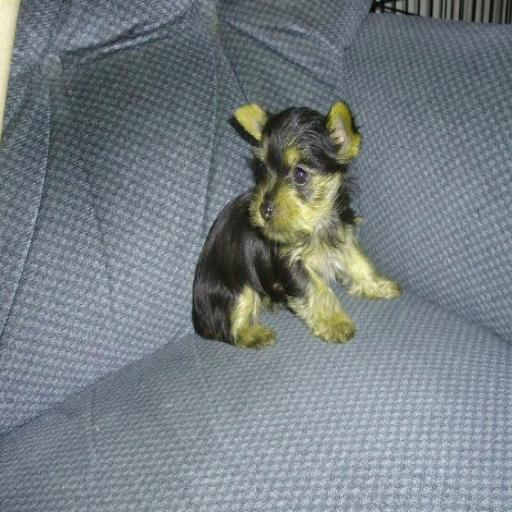dog_face: (228, 98, 357, 244)
